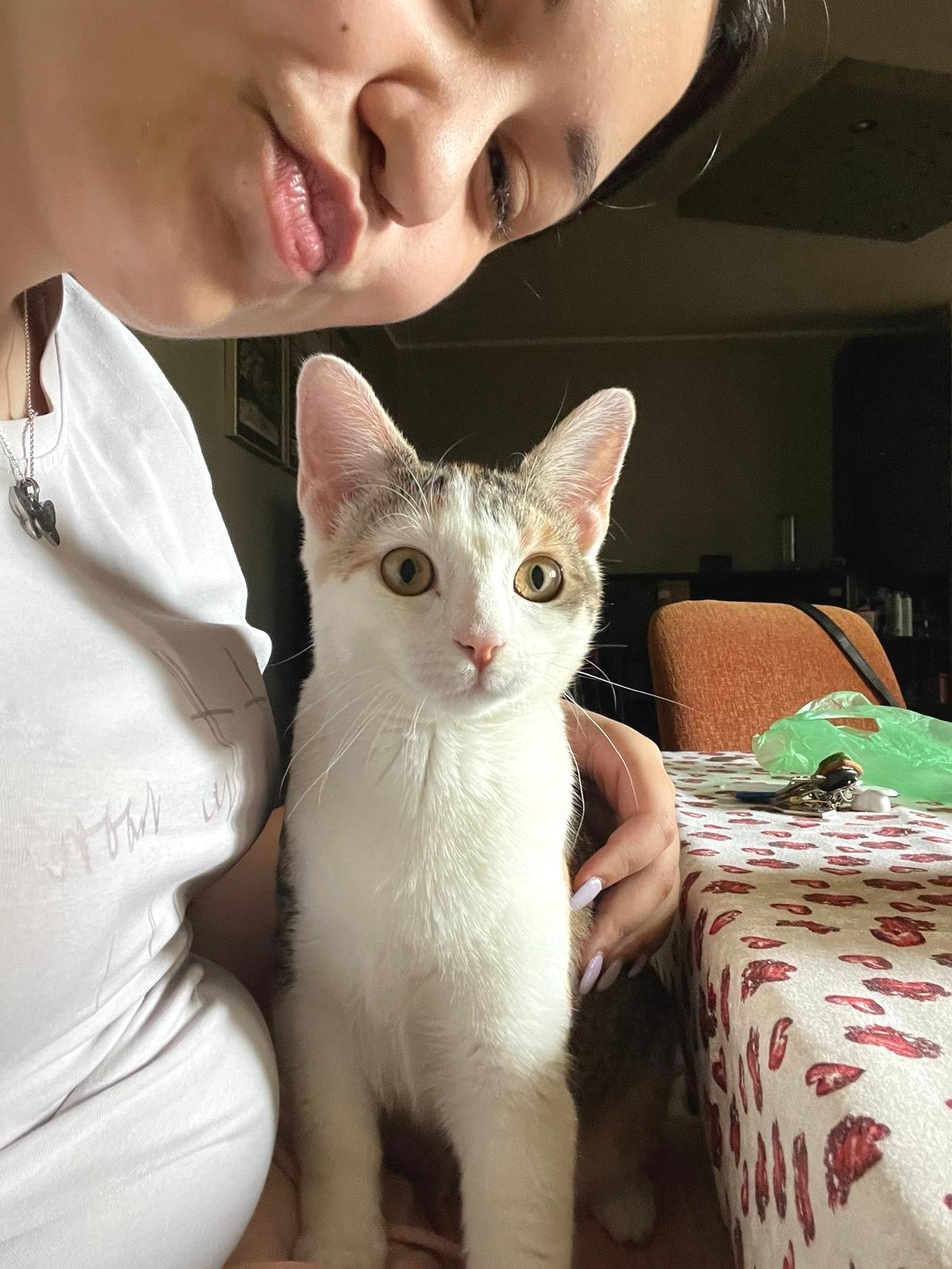macka: (265, 352, 643, 1268)
